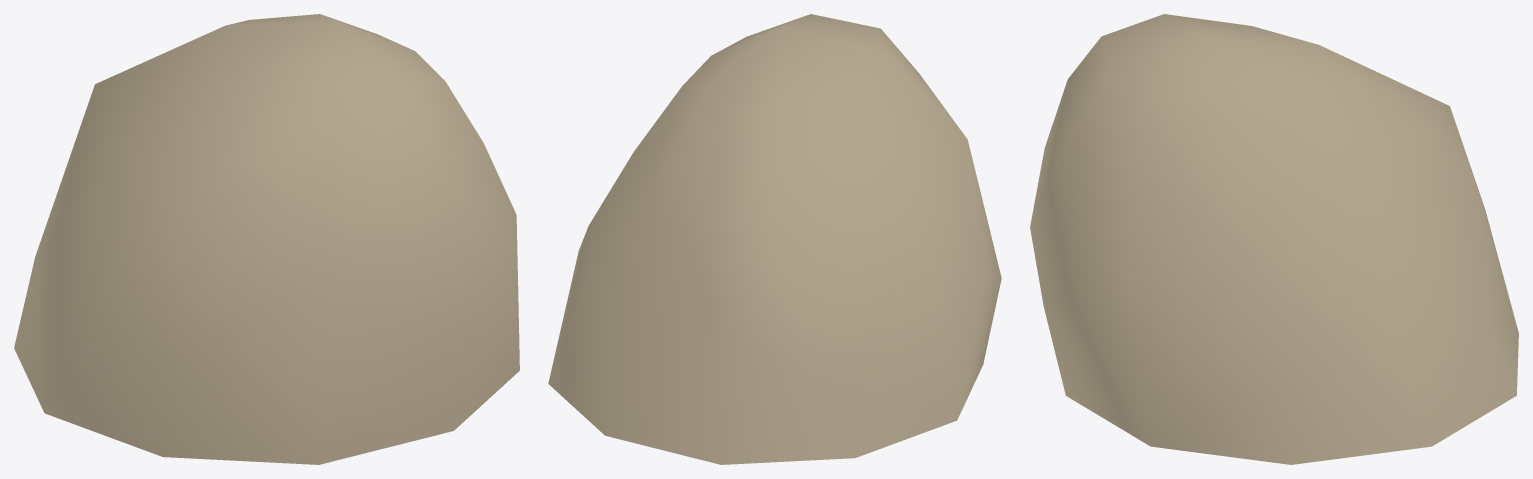
Rendered from Stone_Gather_Indicator_Empty.glb.
The picture shows the model from 3 angles, left to right: view 1: azimuth 30°, elevation 25°; view 2: azimuth 150°, elevation 25°; view 3: azimuth 270°, elevation 25°; orthographic projection. The views are drawn at different scales.
Parts seen in each view (by area): view 1: Stone; view 2: Stone; view 3: Stone.
Boxes of the visible parts, box(x1,y1,x2,y2) form: Stone: box(14, 14, 519, 464); Stone: box(548, 14, 1001, 464); Stone: box(1030, 14, 1518, 464).
Bounding box in the file's own units: 0.6738 × 0.5299 × 0.6914.
1 material, 1 textured.
